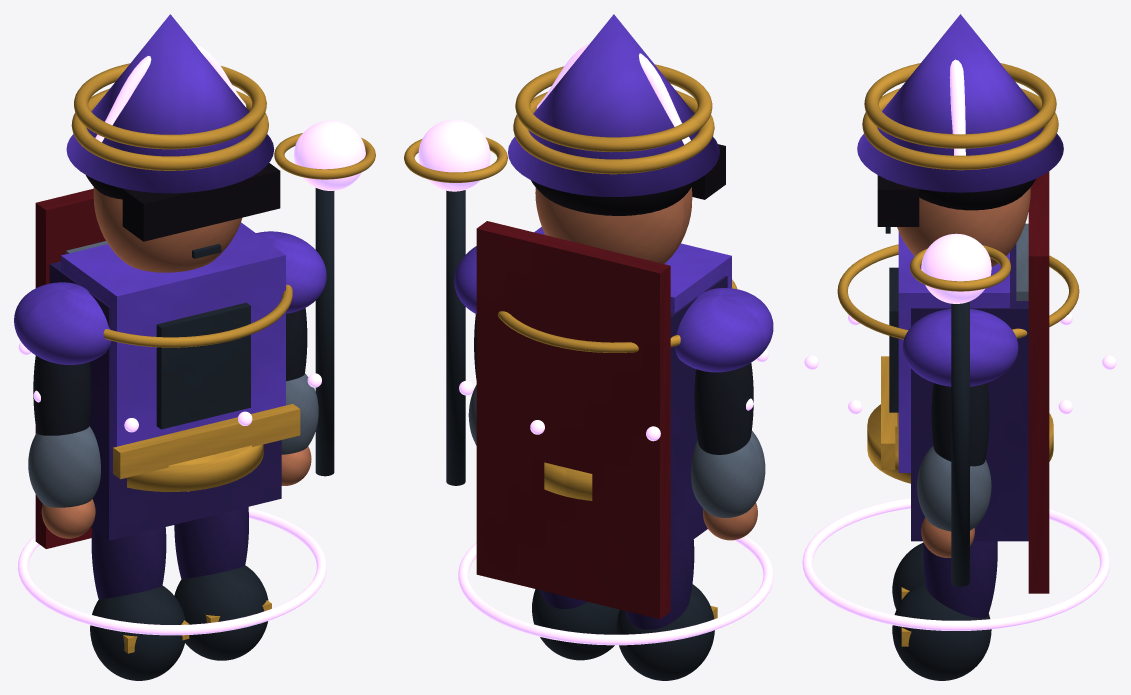
Rendered from Transcendence.glb.
3 renders of one model, left to right at view 1: azimuth 30°, elevation 25°; view 2: azimuth 150°, elevation 25°; view 3: azimuth 270°, elevation 25°, orthographic. The views are drawn at different scales.
Parts seen in each view (by area): view 1: ChestPlate, WizardHat, LayeredRobe, ChestInset, HairFringe, Shoulder, MageSash, Boot, Boot.001, MagicCircle, Staff, Head (+17 smaller); view 2: Cape, WizardHat, Shoulder, Head, LayeredRobe, Staff, CrownRing, MagicCircle, Arm, Gauntlet, Boot, HatBand (+13 smaller); view 3: WizardHat, LayeredRobe, Cape, MagicCircle, Shoulder.001, Boot.001, Staff, CrownRing, Head, ChestPlate, Leg.001, HatBand (+14 smaller).
Part boxes in pixels (x1,y1,x2,y2): ChestPlate: (61, 222, 285, 476); WizardHat: (66, 14, 274, 193); LayeredRobe: (49, 261, 281, 540); ChestInset: (156, 302, 250, 429); HairFringe: (122, 163, 280, 241); Shoulder: (14, 282, 111, 364); MageSash: (113, 404, 300, 479); Boot: (90, 585, 185, 680); Boot.001: (174, 565, 268, 660); MagicCircle: (17, 507, 326, 635); Staff: (315, 188, 334, 476); Head: (93, 187, 242, 272); Cape: (476, 221, 670, 619); WizardHat: (508, 14, 719, 197); Shoulder: (675, 288, 773, 372); Head: (535, 187, 692, 263); LayeredRobe: (670, 276, 727, 555); Staff: (446, 190, 465, 485); CrownRing: (515, 64, 712, 152); MagicCircle: (458, 529, 773, 645); Arm: (694, 363, 753, 454); Gauntlet: (691, 430, 765, 517); Boot: (616, 584, 714, 680); HatBand: (513, 90, 714, 174); WizardHat: (857, 14, 1063, 192); LayeredRobe: (911, 243, 1028, 541); Cape: (1028, 171, 1049, 593); MagicCircle: (802, 498, 1110, 630); Shoulder.001: (902, 308, 1018, 386); Boot.001: (892, 582, 991, 680); Staff: (951, 301, 969, 586); CrownRing: (864, 63, 1056, 148); Head: (897, 187, 1030, 266); ChestPlate: (898, 231, 1009, 472); Leg.001: (923, 541, 997, 618); HatBand: (862, 88, 1058, 170).
Size of the model in its own units: 1.93 by 3.43 by 1.52.
12 materials, 9 textured.
